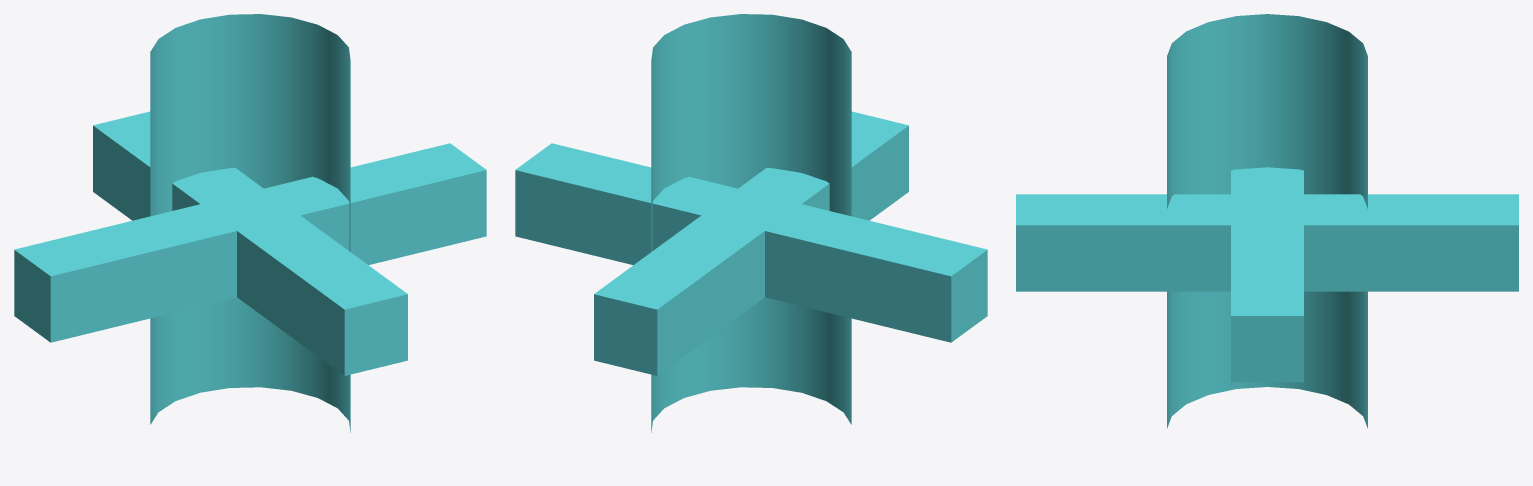
File: turbina.glb
3 renders of one model, left to right at view 1: azimuth 30°, elevation 25°; view 2: azimuth 150°, elevation 25°; view 3: azimuth 270°, elevation 25°, orthographic.
Bounding box in the file's own units: 1.1 × 0.9 × 1.1.
